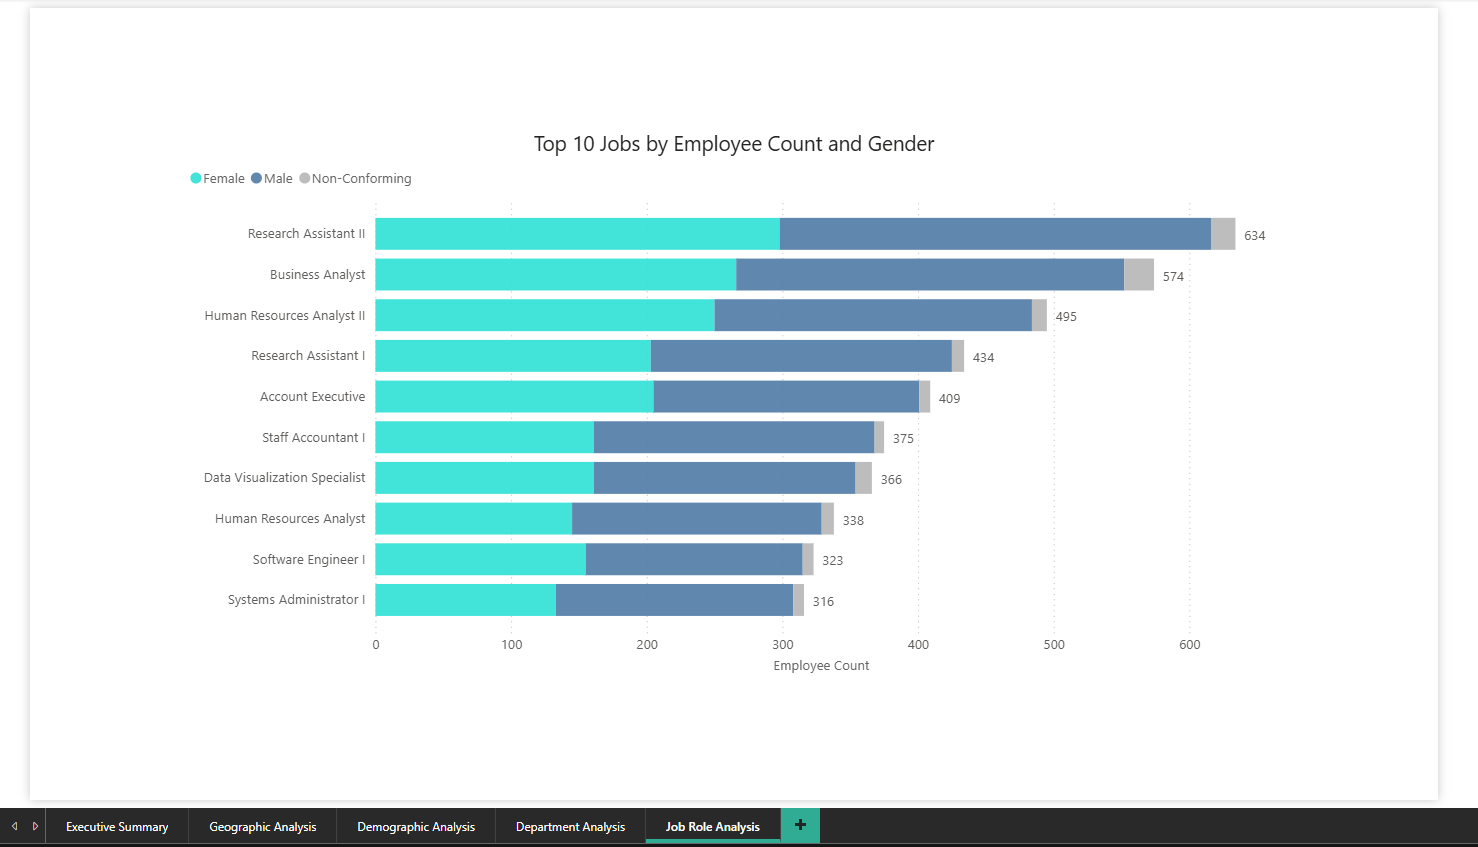

The page's visual inventory and layout, read from the dashboard file:
{"tool":"powerbi","page":{"name":"Job Role Analysis","canvas":[1280,720],"ordinal":4},"visuals":[{"type":"barChart","title":"Top 10 Jobs by Employee Count and Gender","fields":{"Category":["job_title_gender_distribution.jobtitle"],"Series":["job_title_gender_distribution.gender"],"Y":["Sum(job_title_gender_distribution.employee_count)"]},"box":[140,110,1000,500],"z":1}]}

Visuals, with their boxes on the page's 1280x720 design canvas (x1, y1, x2, y2). These are canvas units, not pixel positions in the 1478x847 screenshot, which may show the page scaled, cropped or inside an application window:
"Top 10 Jobs by Employee Count and Gender" barChart: [left=140, top=110, right=1140, bottom=610]
